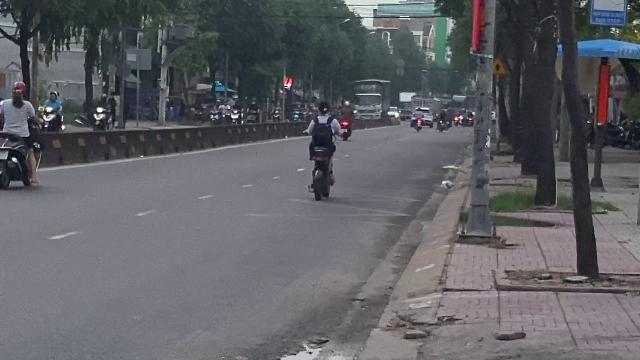helmet: (10, 80, 26, 100)
licenseplate: (1, 150, 8, 160)
motorcyclist: (1, 80, 44, 188)
